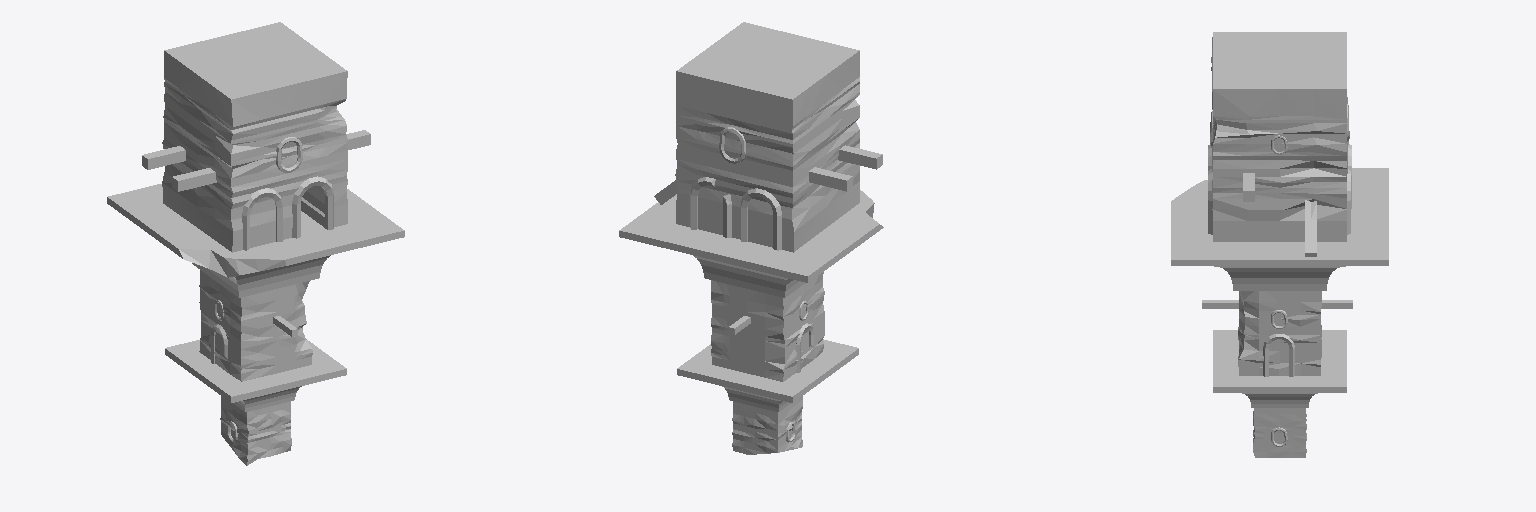
File: upsidedownhouse4.obj
3 renders of one model, left to right at view 1: azimuth 30°, elevation 25°; view 2: azimuth 150°, elevation 25°; view 3: azimuth 270°, elevation 25°, orthographic.
Visible parts, largest first — view 1: Torus.007_Torus.024_Torus.007_Torus.024_auv.001_Torus.007_T.000; view 2: Torus.007_Torus.024_Torus.007_Torus.024_auv.001_Torus.007_T.000; view 3: Torus.007_Torus.024_Torus.007_Torus.024_auv.001_Torus.007_T.000.
Part boxes in pixels (x1,y1,x2,y2): Torus.007_Torus.024_Torus.007_Torus.024_auv.001_Torus.007_T.000: (107,22,404,465); Torus.007_Torus.024_Torus.007_Torus.024_auv.001_Torus.007_T.000: (619,22,883,454); Torus.007_Torus.024_Torus.007_Torus.024_auv.001_Torus.007_T.000: (1171,32,1388,457).
Size of the model in its own units: 11.54 by 22.28 by 11.27.